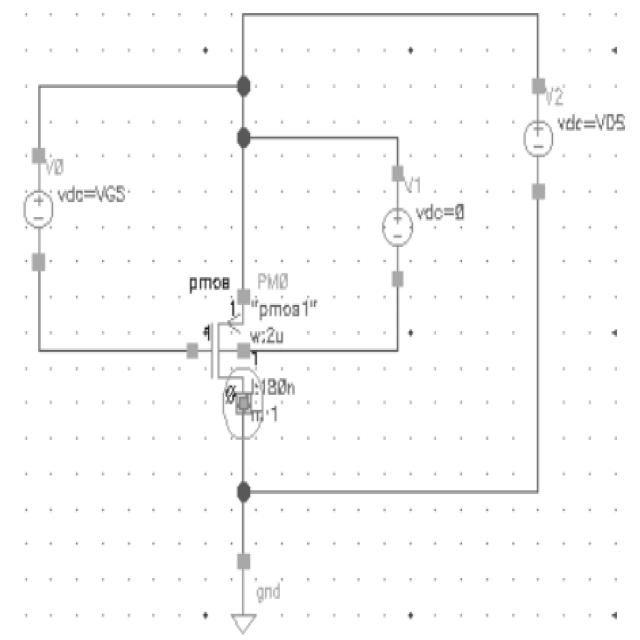pmos: (180, 263, 252, 420)
vdc: (514, 79, 568, 207), (18, 150, 61, 272), (376, 175, 418, 298)
